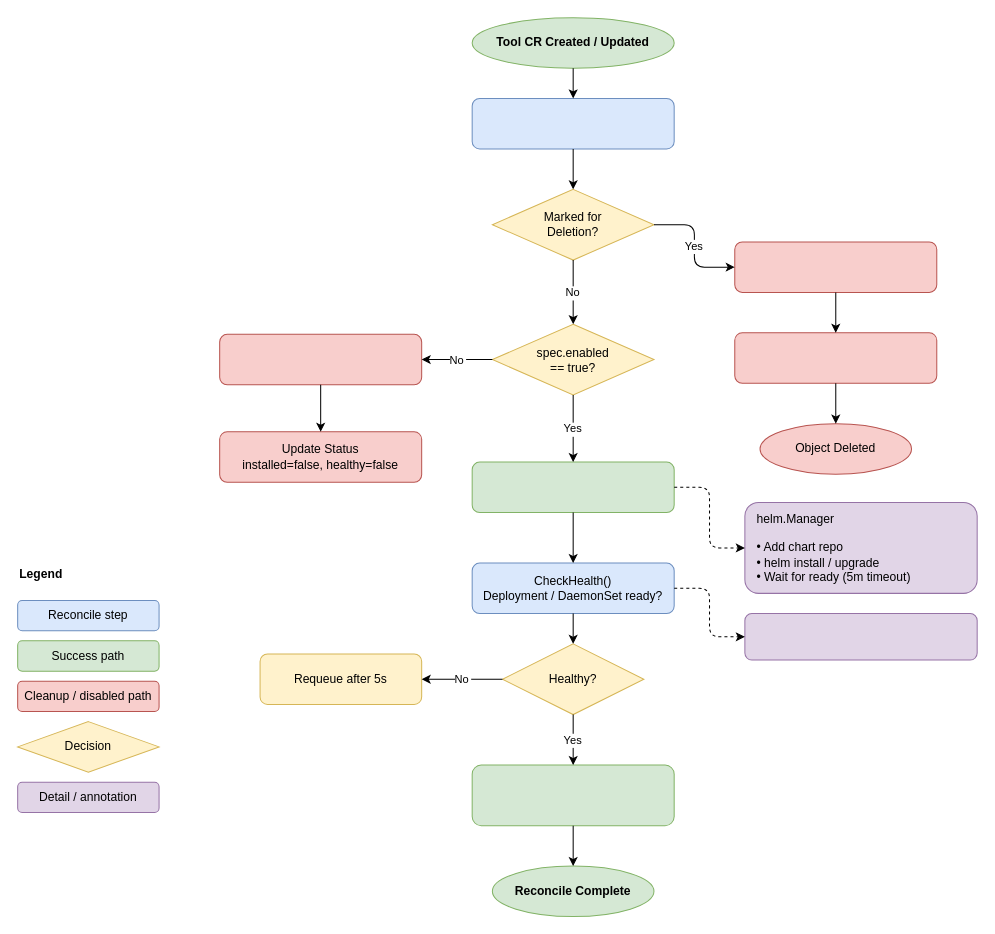
This 995x934 diagram has some shape labels left out. Each missing label, with the centre of its shape:
Add Finalizer (if not present): the point at 572,123
EnsureUninstalled() Helm uninstall + NS cleanup: the point at 835,266
Helm Install оr upgrade: the point at 572,487
Helm uninstall: the point at 320,359
Remove Finalizer: the point at 835,357
Trivy / Litmus → IsDeploymentReady() Falco → IsDaemonSetReady(): the point at 860,636
Update Tool Status installed=true, healthy=true version=chart.version: the point at 572,795
